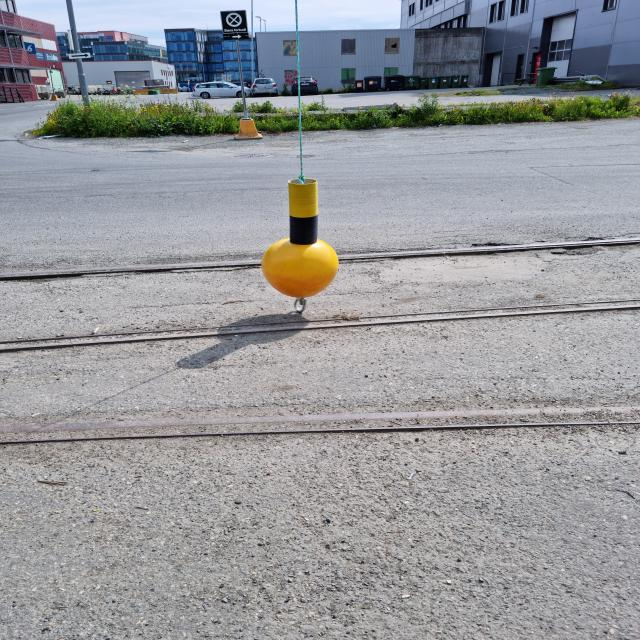west: (263, 178, 340, 298)
